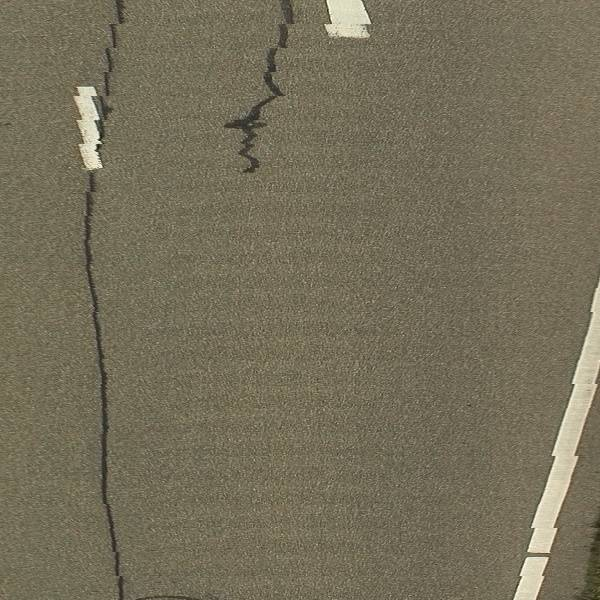road_damage: (221, 1, 305, 186)
